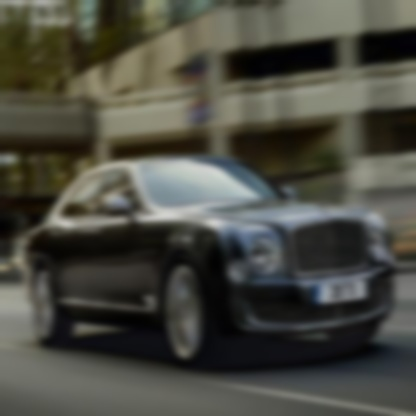Vehicle: (21, 152, 397, 374)
